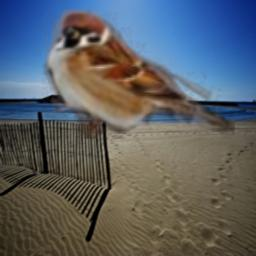Sparrow: (39, 9, 235, 139)
